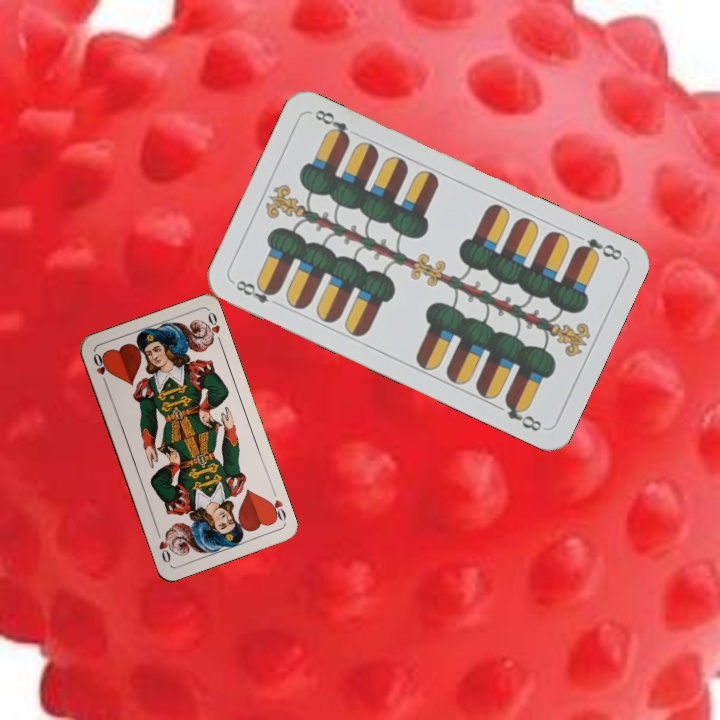E8: (229, 276, 283, 310), (572, 234, 625, 263)
HO: (264, 485, 289, 525), (89, 349, 111, 388)
